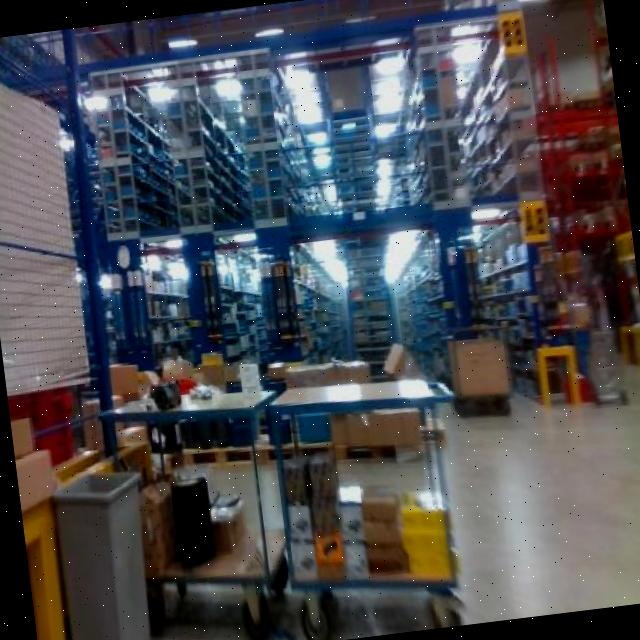pallet: (178, 438, 264, 474)
